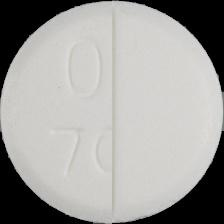51285-524: (0, 0, 224, 224)
